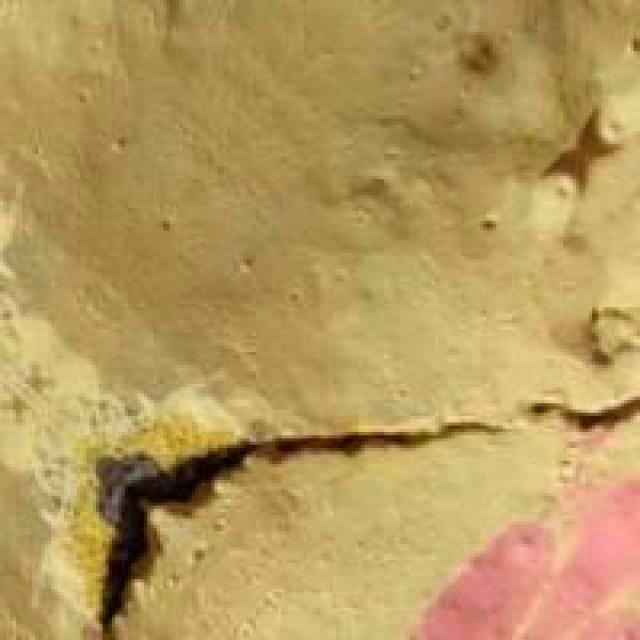SurfaceCrack: (40, 362, 640, 640)
